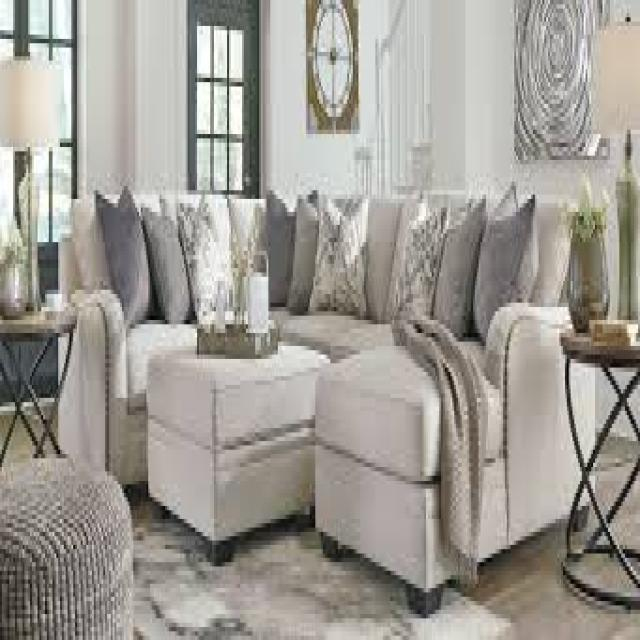Lamp: (0, 40, 64, 308)
Sofa: (58, 162, 598, 584)
Table: (148, 317, 319, 555)
